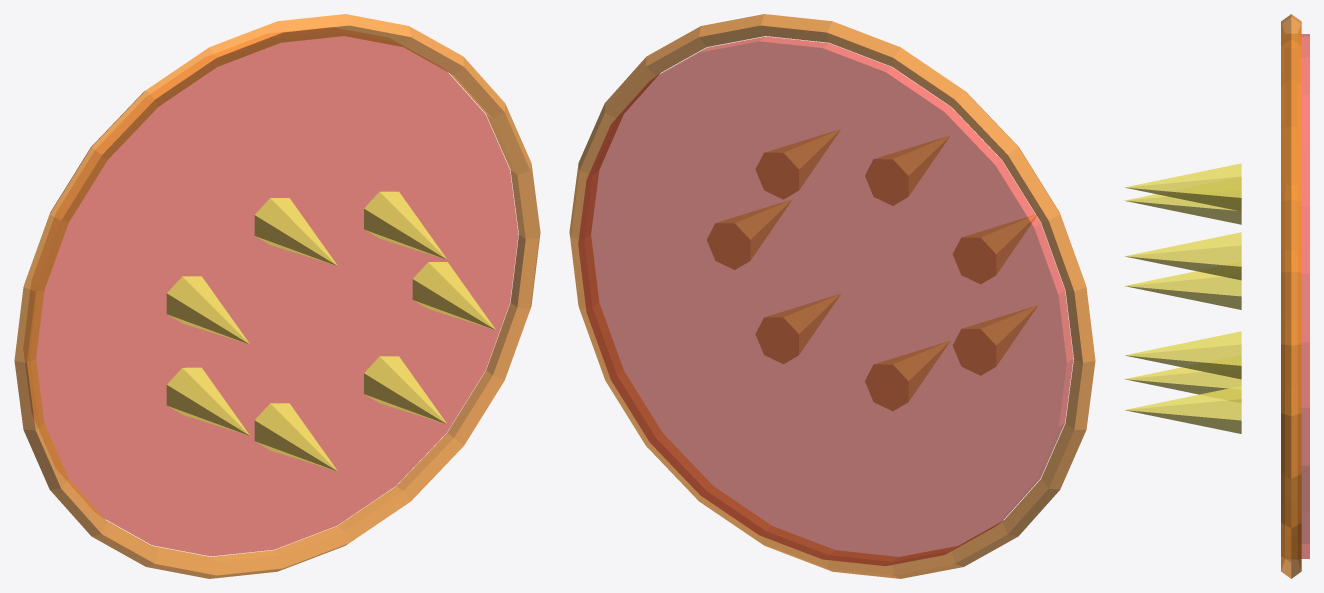
Rendered from vfx_burning_ground_patch.glb.
The picture shows the model from 3 angles, left to right: view 1: azimuth 30°, elevation 25°; view 2: azimuth 150°, elevation 25°; view 3: azimuth 270°, elevation 25°; orthographic projection. The views are drawn at different scales.
Parts seen in each view (by area): view 1: burn_area, ring, flame_4, flame_3, flame_5, flame_0, flame_1, flame_2, flame_6; view 2: burn_area, ring, flame_6, flame_2, flame_4, flame_5, flame_0, flame_3, flame_1; view 3: ring, burn_area, flame_2, flame_0, flame_1, flame_6, flame_4, flame_5, flame_3.
Boxes of the visible parts, box(x1,y1,x2,y2) form: burn_area: box(36, 36, 518, 556); ring: box(14, 14, 540, 578); flame_4: box(166, 367, 249, 435); flame_3: box(166, 276, 250, 344); flame_5: box(254, 403, 337, 471); flame_0: box(412, 262, 495, 330); flame_1: box(364, 191, 447, 259); flame_2: box(254, 198, 337, 266); flame_6: box(364, 356, 447, 424); burn_area: box(578, 36, 1073, 565); ring: box(569, 14, 1095, 578); flame_6: box(756, 294, 840, 363); flame_2: box(865, 136, 949, 205); flame_4: box(953, 305, 1037, 375); flame_5: box(865, 341, 949, 410); flame_0: box(707, 200, 791, 269); flame_3: box(953, 214, 1037, 283); flame_1: box(756, 129, 840, 199); ring: box(1281, 14, 1301, 578); burn_area: box(1301, 34, 1309, 558); flame_2: box(1124, 163, 1241, 211); flame_0: box(1124, 331, 1241, 379); flame_1: box(1125, 232, 1241, 280); flame_6: box(1124, 386, 1241, 433); flame_4: box(1125, 271, 1241, 309); flame_5: box(1124, 367, 1241, 394); flame_3: box(1124, 194, 1241, 224).
Size of the model in its own units: 1.83 by 1.83 by 0.6.
